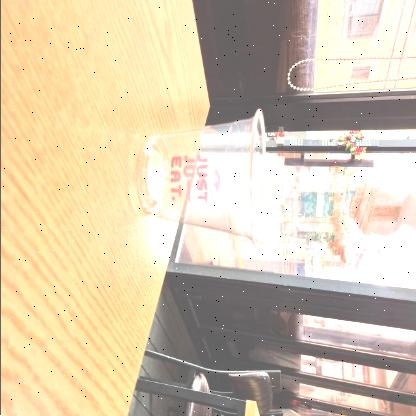Others: (131, 105, 273, 254)
